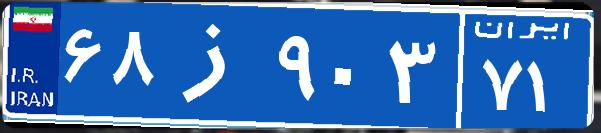0: (330, 28, 385, 110)
1: (525, 38, 570, 115)
3: (385, 28, 445, 110)
6: (57, 26, 110, 107)
7: (475, 38, 525, 113)
8: (110, 28, 158, 105)
9: (273, 28, 330, 110)
ز: (158, 15, 273, 115)
